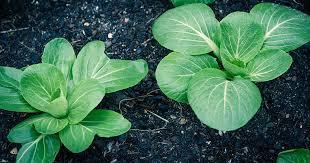Healthy-Pechay: (156, 2, 310, 131), (1, 38, 145, 163), (160, 31, 214, 55), (260, 10, 281, 42), (175, 72, 196, 79), (83, 21, 90, 27), (123, 17, 129, 23), (65, 3, 70, 7)
